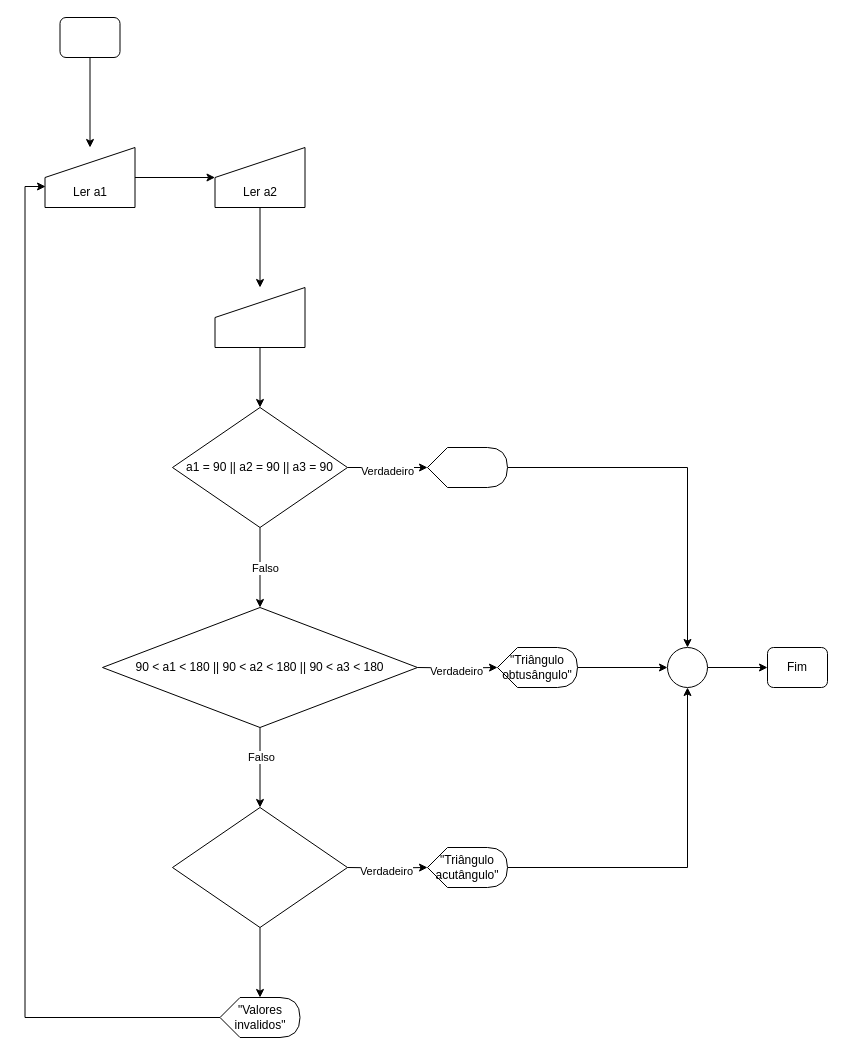
The diagram is 845 pixels wide and 1055 high, and some of its shapes have lost their labels. Each missing label, with the box of its shape:
"Triângulo retangulo": (426, 446, 508, 488)
a1 < 90 & a2 < 90 & a3 < 90: (172, 806, 348, 928)
Início: (59, 16, 120, 58)
Ler a3: (214, 286, 305, 348)
